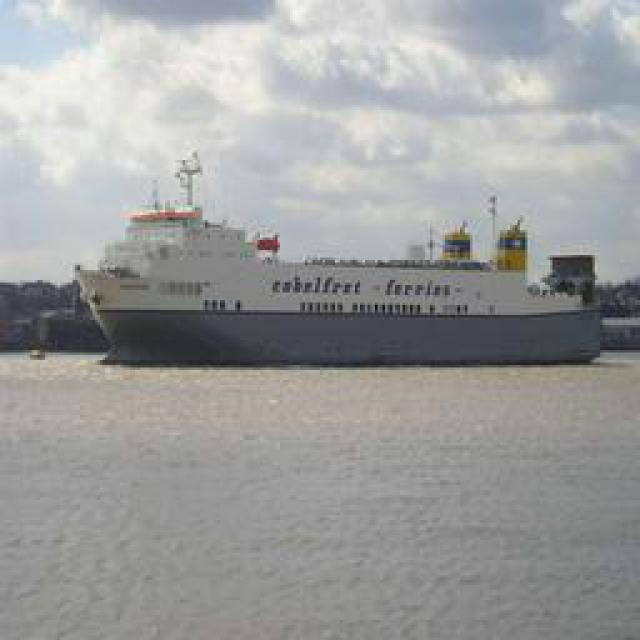Ship: (86, 158, 609, 373)
